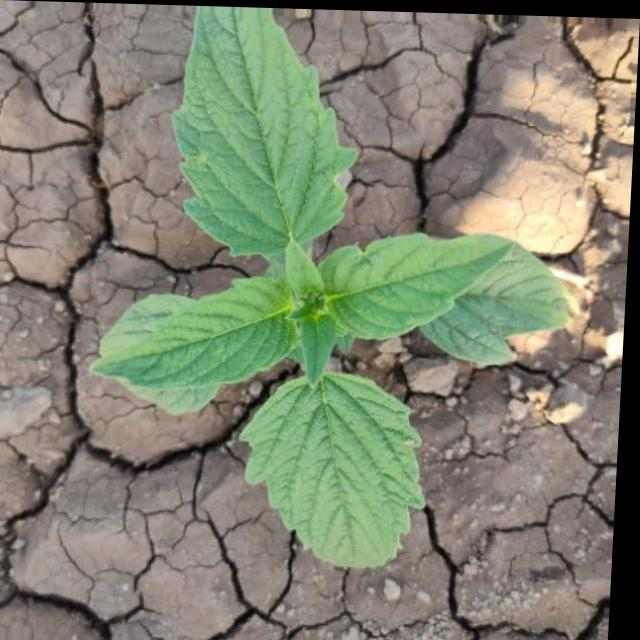crop: (65, 4, 586, 571)
